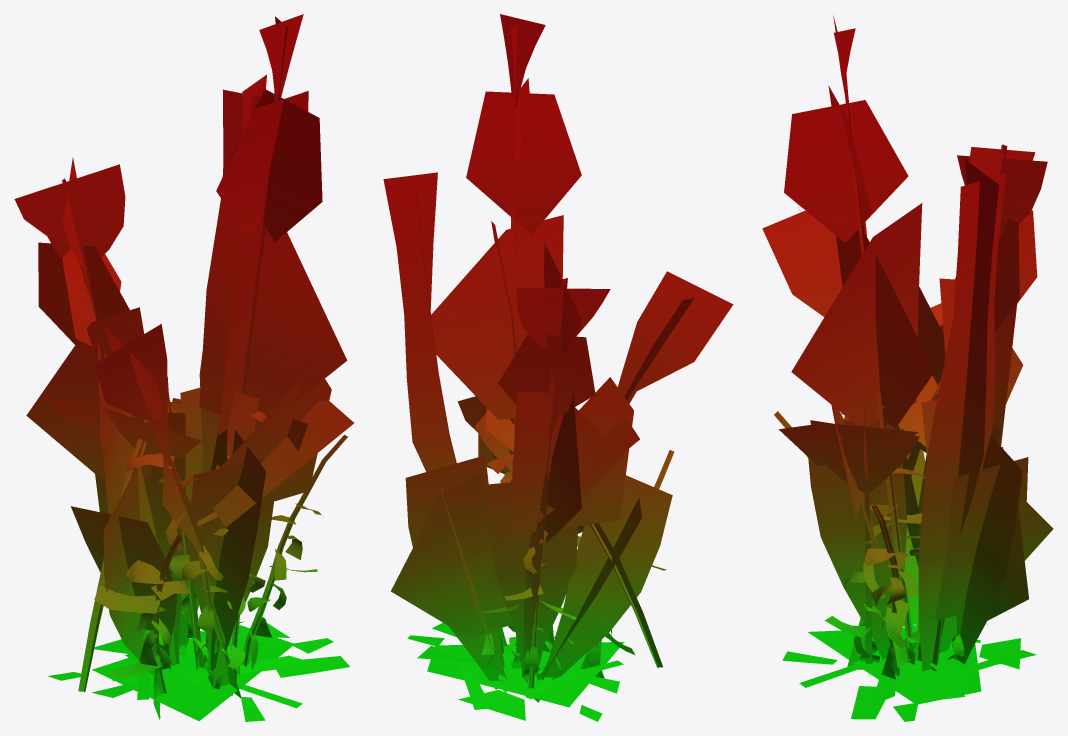
Rendered from Willowherb_LOD1_Var1_tbfpbbhr.fbx.
3 views of the same model, side by side, from view 1: azimuth 30°, elevation 25°; view 2: azimuth 150°, elevation 25°; view 3: azimuth 270°, elevation 25° (orthographic). The views are drawn at different scales.
Parts seen in each view (by area): view 1: _8008_Var1_LOD1; view 2: _8008_Var1_LOD1; view 3: _8008_Var1_LOD1.
Part boxes in pixels (x1,y1,x2,y2): _8008_Var1_LOD1: [14, 14, 354, 721]; _8008_Var1_LOD1: [383, 14, 733, 721]; _8008_Var1_LOD1: [762, 16, 1053, 721].
Size of the model in its own units: 12.28 by 28.04 by 10.66.
